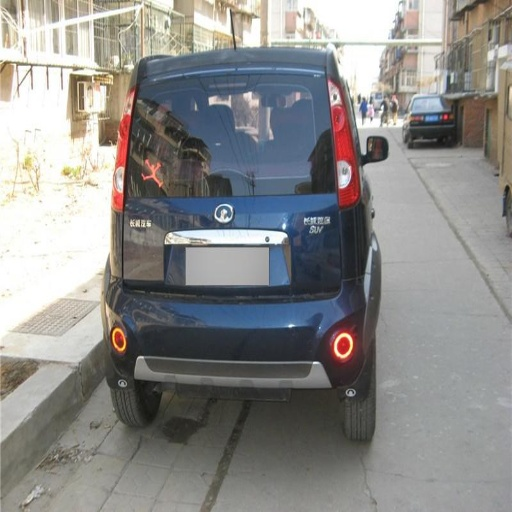back_bumper: (104, 230, 367, 396)
tailgate: (124, 110, 234, 256), (174, 208, 323, 301)
trunk: (127, 72, 353, 302)
